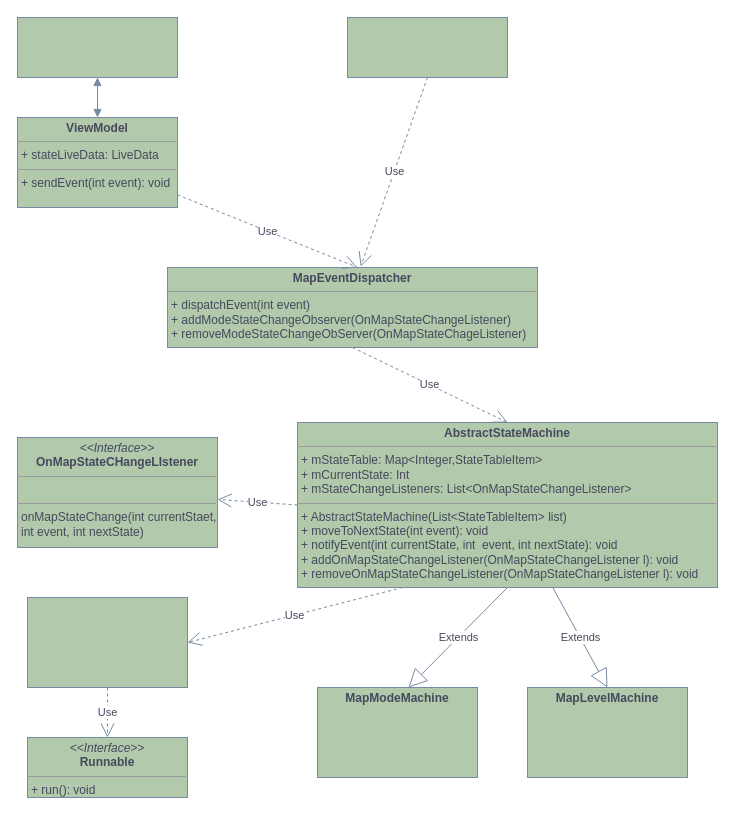
Some shapes in this 735 by 815 pixel diagram are drawn without their labels. Here are the shapes that lost their labels. From the top down, the box of each, then its label:
(16, 16, 178, 78): View + onTouchEvent(): boolean
(346, 16, 508, 78): VoiceController + sendEvent(int event): void
(26, 596, 188, 688): StateTableItem + state:Int + event: Int + nextState: Int + action: Runnable
